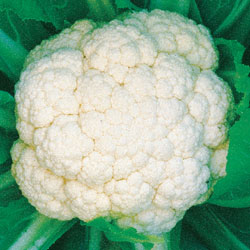cauliflower: (11, 8, 227, 232)
